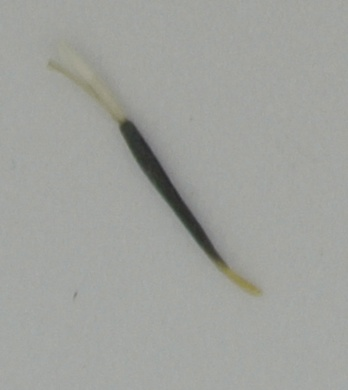เมล็ดดีเรียวยาว: (45, 44, 262, 299)
